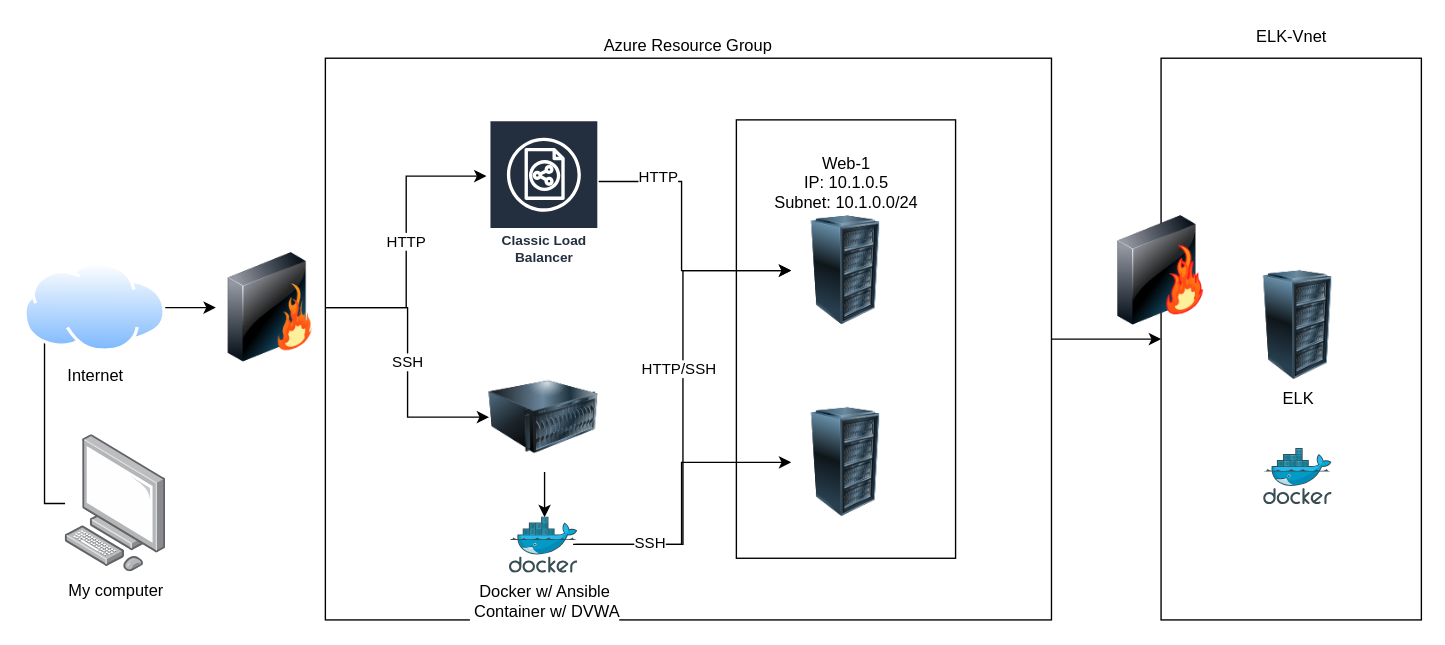
The diagram is 1445 pixels wide and 645 high, and some of its shapes have lost their labels. Here are the shapes that lost their labels. From the top down, the box of each, then its label:
(215, 252, 325, 362): Red-Team NSG
(735, 119, 956, 558): Red Availability Zone
(488, 362, 598, 471): Jump box IP: 10.1.0.4 Subnet: 10.1.0.0/24
(790, 407, 900, 516): Web-2 IP: 10.1.0.6 Subnet: 10.1.0.0/24
